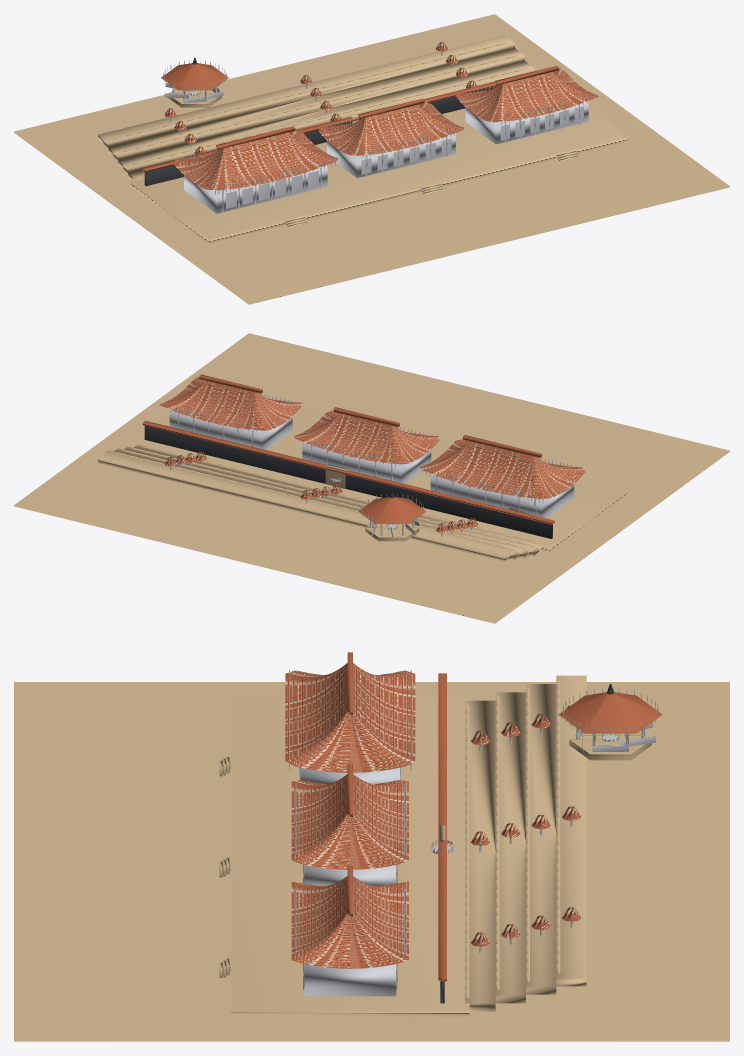
3 renders of one model, top to bottom at view 1: azimuth 30°, elevation 25°; view 2: azimuth 150°, elevation 25°; view 3: azimuth 270°, elevation 25°, orthographic. The views are drawn at different scales.
Visible parts, largest first — view 1: nakseonjae_plinth_and_courtyards, nakseonjae_flower_terraces_and_walls, seokbokheon_sugangjae_roofs, nakseonjae_paljak_roof, seokbokheon_and_sugangjae_halls, nakseonjae_baekgol_main_hall, sangryangjeong_hex_roof, sangryangjeong_hex_pavilion; view 2: nakseonjae_plinth_and_courtyards, nakseonjae_flower_terraces_and_walls, seokbokheon_sugangjae_roofs, nakseonjae_paljak_roof, seokbokheon_and_sugangjae_halls, nakseonjae_baekgol_main_hall, sangryangjeong_hex_roof, sangryangjeong_hex_pavilion; view 3: nakseonjae_plinth_and_courtyards, nakseonjae_flower_terraces_and_walls, seokbokheon_sugangjae_roofs, nakseonjae_paljak_roof, seokbokheon_and_sugangjae_halls, sangryangjeong_hex_roof, sangryangjeong_hex_pavilion, nakseonjae_baekgol_main_hall.
Boxes of the visible parts, left/top/right/bottom form: nakseonjae_plinth_and_courtyards: left=14, top=14, right=729, bottom=304; nakseonjae_flower_terraces_and_walls: left=98, top=35, right=534, bottom=186; seokbokheon_sugangjae_roofs: left=319, top=66, right=598, bottom=157; nakseonjae_paljak_roof: left=173, top=126, right=338, bottom=195; seokbokheon_and_sugangjae_halls: left=327, top=101, right=588, bottom=178; nakseonjae_baekgol_main_hall: left=184, top=165, right=327, bottom=213; sangryangjeong_hex_roof: left=161, top=57, right=228, bottom=91; sangryangjeong_hex_pavilion: left=164, top=83, right=223, bottom=107; nakseonjae_plinth_and_courtyards: left=14, top=333, right=729, bottom=623; nakseonjae_flower_terraces_and_walls: left=98, top=420, right=554, bottom=562; seokbokheon_sugangjae_roofs: left=159, top=374, right=439, bottom=466; nakseonjae_paljak_roof: left=420, top=435, right=584, bottom=503; seokbokheon_and_sugangjae_halls: left=169, top=409, right=431, bottom=483; nakseonjae_baekgol_main_hall: left=430, top=473, right=574, bottom=518; sangryangjeong_hex_roof: left=358, top=491, right=426, bottom=525; sangryangjeong_hex_pavilion: left=365, top=520, right=419, bottom=541; nakseonjae_plinth_and_courtyards: left=14, top=682, right=729, bottom=1041; nakseonjae_flower_terraces_and_walls: left=431, top=673, right=586, bottom=1011; seokbokheon_sugangjae_roofs: left=291, top=763, right=408, bottom=968; nakseonjae_paljak_roof: left=285, top=652, right=415, bottom=772; seokbokheon_and_sugangjae_halls: left=303, top=864, right=397, bottom=996; sangryangjeong_hex_roof: left=558, top=684, right=662, bottom=735; sangryangjeong_hex_pavilion: left=569, top=722, right=655, bottom=760; nakseonjae_baekgol_main_hall: left=299, top=767, right=400, bottom=784.
Bounding box in the file's own units: 78 × 10.7 × 66.
Materials: 4 (4 with a texture image).
